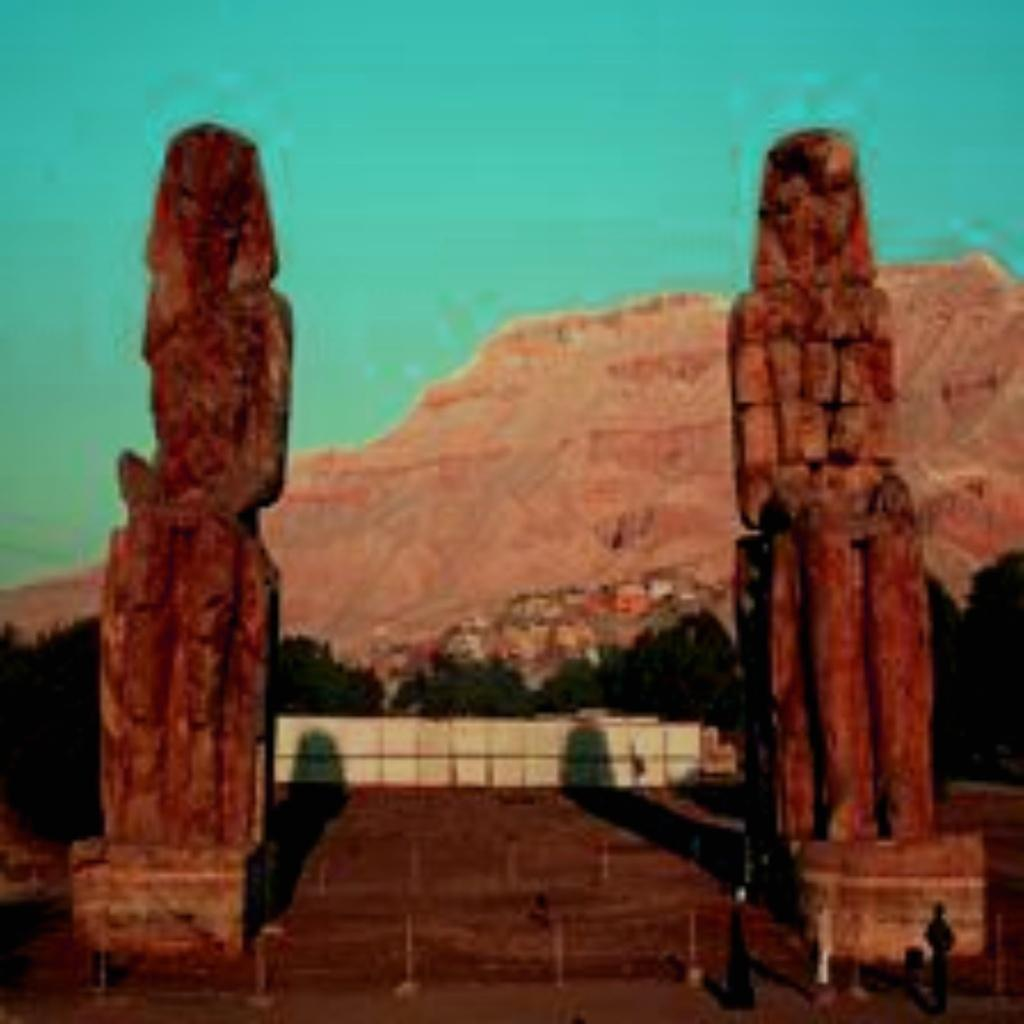Colossoi of Memnon: (713, 119, 992, 983), (60, 114, 302, 978)
